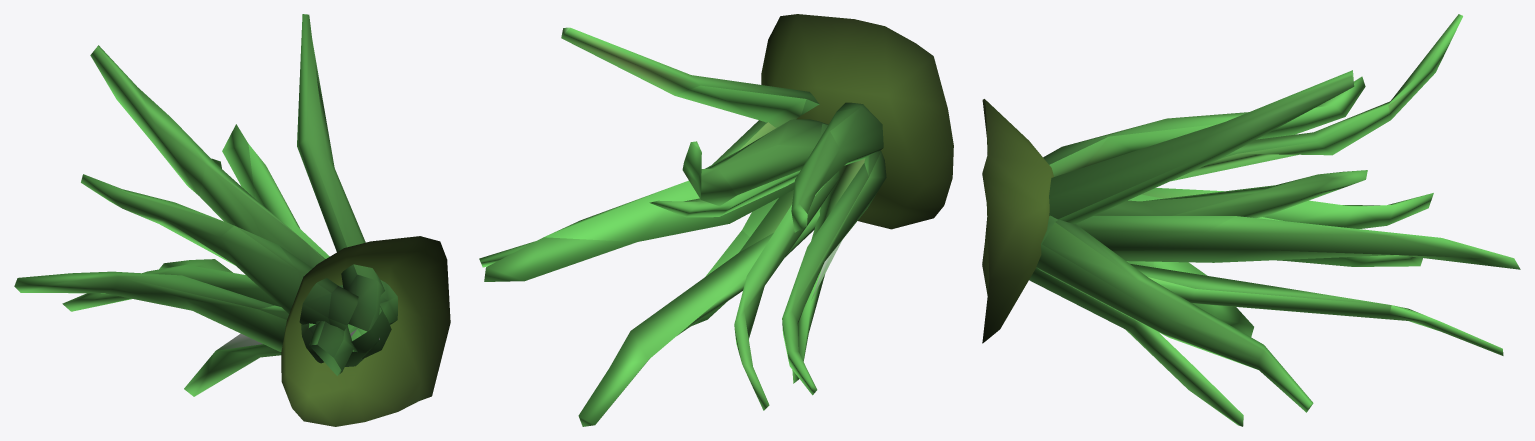
The model's file is AloeVera.fbx.
3 renders of one model, left to right at view 1: azimuth 30°, elevation 25°; view 2: azimuth 150°, elevation 25°; view 3: azimuth 270°, elevation 25°, orthographic. The views are drawn at different scales.
Visible parts, largest first — view 1: AloeVera; view 2: AloeVera; view 3: AloeVera.
Part boxes in pixels (x1,y1,x2,y2): AloeVera: (14, 14, 450, 426); AloeVera: (479, 14, 953, 426); AloeVera: (982, 14, 1520, 426).
Bounding box in the file's own units: 408 × 349 × 471.
